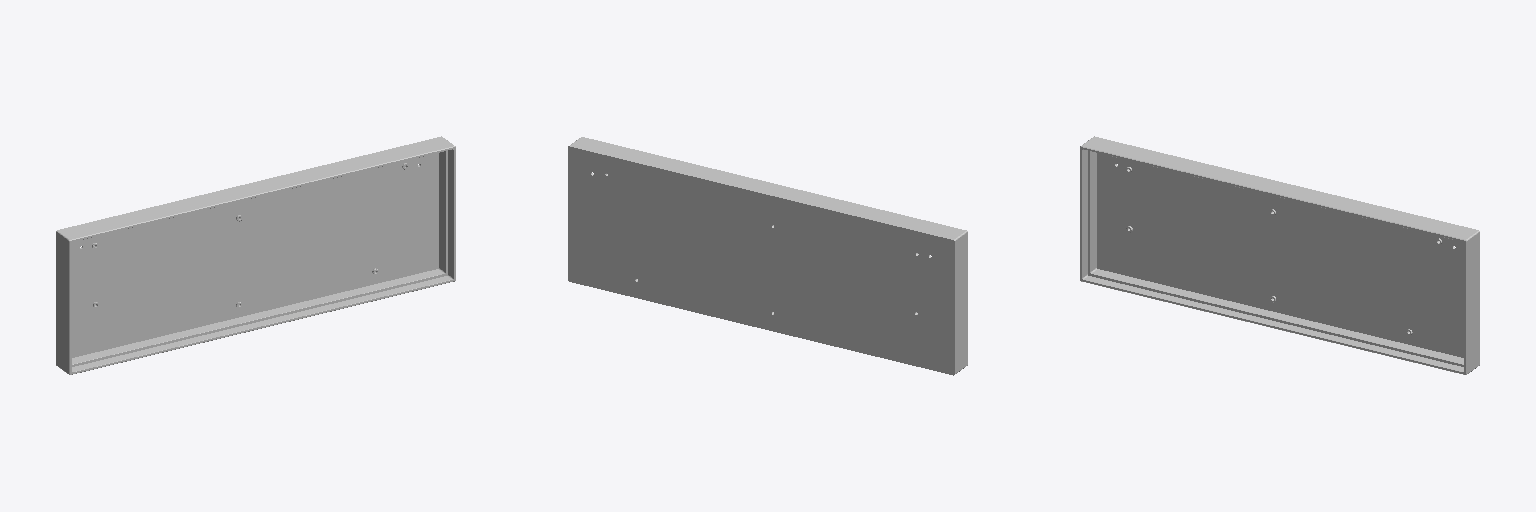
The model's file is case-bottom-extended-top.obj.
3 views of the same model, side by side, from view 1: azimuth 30°, elevation 25°; view 2: azimuth 150°, elevation 25°; view 3: azimuth 330°, elevation 25° (orthographic).
Parts seen in each view (by area): view 1: case_bottom_extended_top; view 2: case_bottom_extended_top; view 3: case_bottom_extended_top.
Part boxes in pixels (x1,y1,x2,y2): case_bottom_extended_top: (56,136,455,374); case_bottom_extended_top: (568,137,967,375); case_bottom_extended_top: (1080,136,1479,374).
Bounding box in the file's own units: 314 × 105 × 19.